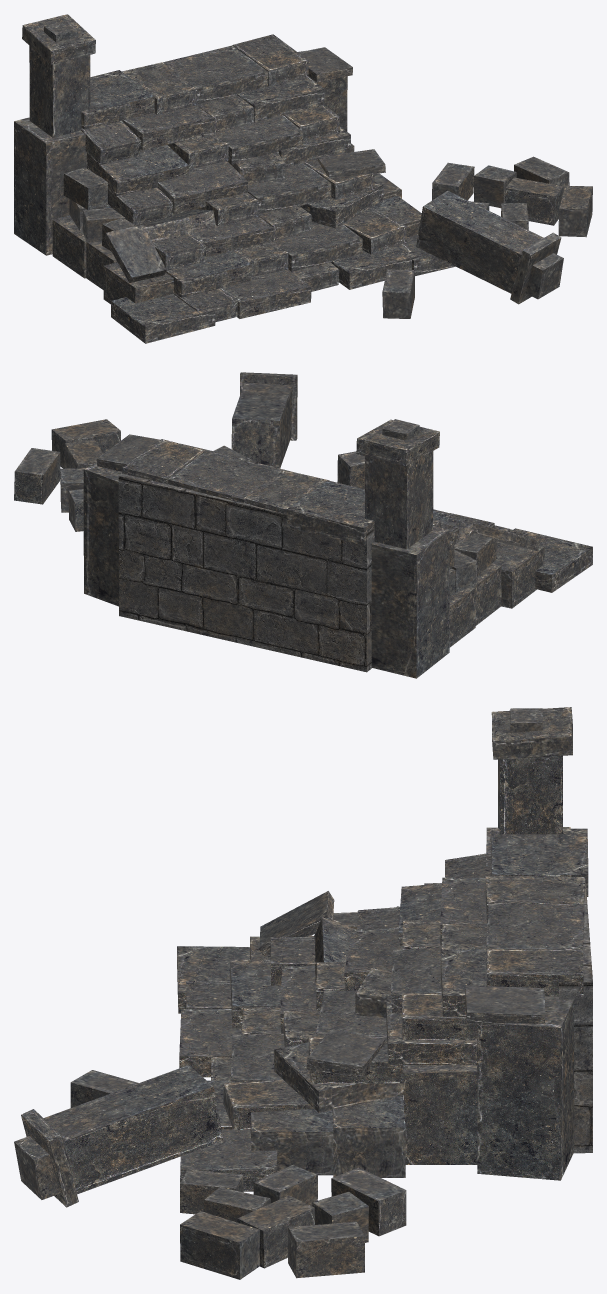
Rendered from Stairs_02.fbx.
The picture shows the model from 3 angles, top to bottom: view 1: azimuth 30°, elevation 25°; view 2: azimuth 150°, elevation 25°; view 3: azimuth 270°, elevation 25°; orthographic projection. The views are drawn at different scales.
Parts seen in each view (by area): view 1: StoneBricks; view 2: StoneBricks, StoneWall; view 3: StoneBricks, StoneWall.
Boxes of the visible parts, bbox=[...] form: StoneBricks: bbox=[14, 14, 592, 343]; StoneBricks: bbox=[14, 372, 592, 678]; StoneWall: bbox=[118, 473, 374, 672]; StoneBricks: bbox=[14, 707, 588, 1279]; StoneWall: bbox=[559, 882, 592, 1153].
Size of what is drawn, in the model's own units: 400 by 174 by 317.
